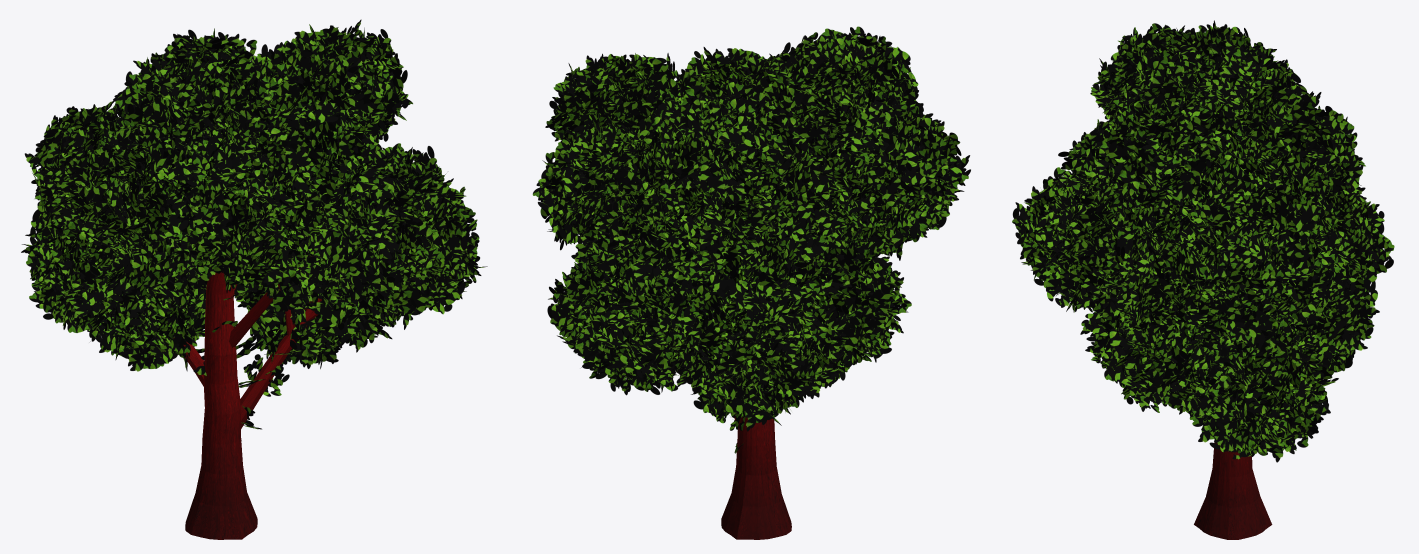
File: oak_broadleaf_v01.glb
3 renders of one model, left to right at view 1: azimuth 30°, elevation 25°; view 2: azimuth 150°, elevation 25°; view 3: azimuth 270°, elevation 25°, orthographic. The views are drawn at different scales.
Visible parts, largest first — view 1: oak_broadleaf_v01; view 2: oak_broadleaf_v01; view 3: oak_broadleaf_v01.
Boxes of the visible parts, box(x1,y1,x2,y2) form: oak_broadleaf_v01: box(21, 19, 487, 539); oak_broadleaf_v01: box(532, 26, 970, 539); oak_broadleaf_v01: box(1012, 20, 1394, 539).
Bounding box in the file's own units: 15.24 × 17.19 × 12.77.
Materials: 2 (2 with a texture image).
